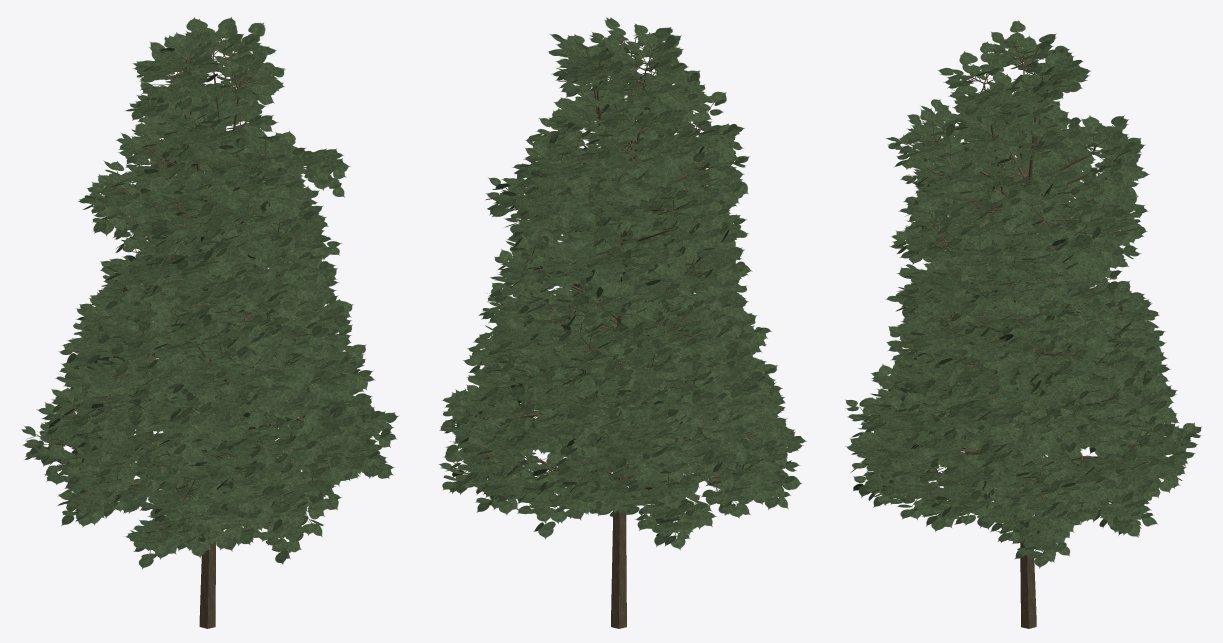
File: tree-05.glb
3 renders of one model, left to right at view 1: azimuth 30°, elevation 25°; view 2: azimuth 150°, elevation 25°; view 3: azimuth 270°, elevation 25°, orthographic. The views are drawn at different scales.
Parts seen in each view (by area): view 1: Tilia_europaea_mature_02_LoD2B; view 2: Tilia_europaea_mature_02_LoD2B; view 3: Tilia_europaea_mature_02_LoD2B.
Part boxes in pixels (x1=…): Tilia_europaea_mature_02_LoD2B: x1=21, y1=17, x2=398, y2=628; Tilia_europaea_mature_02_LoD2B: x1=438, y1=17, x2=806, y2=628; Tilia_europaea_mature_02_LoD2B: x1=845, y1=20, x2=1201, y2=628.
Size of the model in its own units: 11.88 by 20.17 by 11.55.
2 materials, 2 textured.
